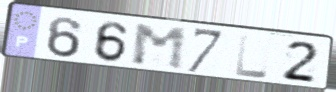2: (278, 40, 324, 85)
6: (93, 20, 132, 65), (46, 16, 85, 59)
7: (185, 27, 227, 75)
L: (234, 33, 270, 81)
M: (131, 23, 189, 72)
